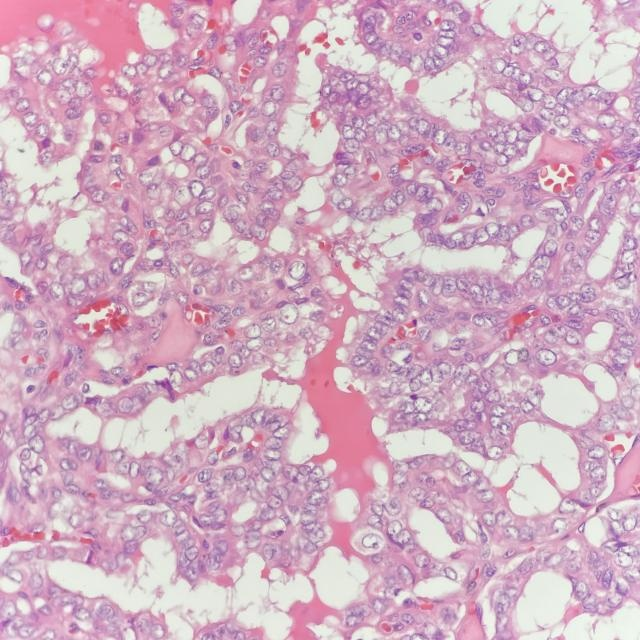TC: (227, 420, 260, 449), (274, 297, 303, 328), (284, 255, 312, 286), (185, 172, 212, 204), (134, 179, 174, 200), (45, 278, 71, 309), (406, 392, 438, 417), (190, 425, 214, 457), (195, 462, 221, 490), (127, 287, 157, 311), (180, 361, 205, 388), (412, 280, 433, 312), (480, 444, 508, 467), (455, 427, 485, 448), (351, 203, 376, 228), (412, 180, 437, 205), (240, 316, 263, 343), (245, 223, 272, 246), (225, 349, 247, 377), (534, 346, 558, 371), (219, 204, 242, 230), (324, 170, 354, 189), (452, 362, 476, 385), (193, 198, 219, 219), (246, 159, 278, 176), (464, 395, 488, 417), (232, 263, 257, 284), (172, 216, 193, 241), (379, 192, 400, 217), (456, 268, 474, 296), (482, 386, 507, 406), (501, 283, 519, 310), (357, 334, 381, 354), (105, 257, 126, 279), (105, 231, 130, 249), (384, 306, 412, 322), (474, 220, 490, 248), (491, 418, 514, 437), (526, 382, 542, 409), (263, 435, 288, 451), (443, 270, 457, 297), (264, 186, 286, 202), (349, 351, 368, 369), (470, 310, 487, 330), (520, 210, 536, 231), (384, 358, 405, 370)
